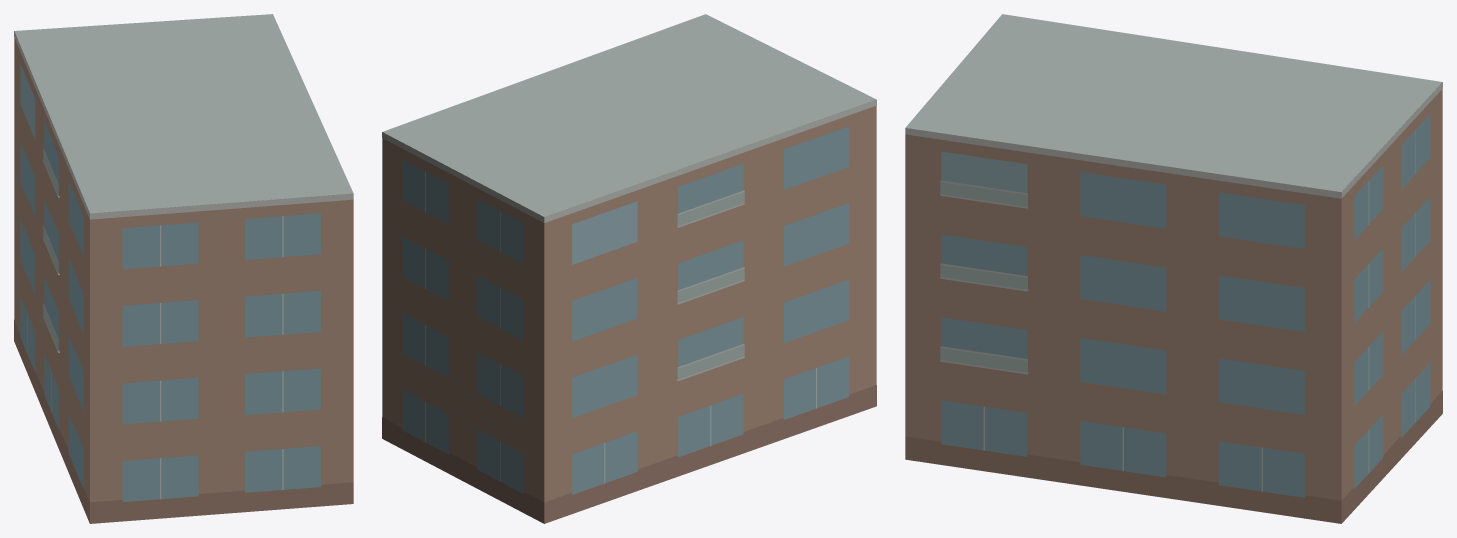
File: survey-upis-32882670.glb
3 views of the same model, side by side, from view 1: azimuth 30°, elevation 25°; view 2: azimuth 150°, elevation 25°; view 3: azimuth 270°, elevation 25° (orthographic). The views are drawn at different scales.
Parts seen in each view (by area): view 1: survey-upis-32882670.tmp; view 2: survey-upis-32882670.tmp; view 3: survey-upis-32882670.tmp.
Part boxes in pixels (x1,y1,x2,y2): survey-upis-32882670.tmp: [14, 14, 353, 523]; survey-upis-32882670.tmp: [382, 14, 876, 523]; survey-upis-32882670.tmp: [905, 14, 1442, 523].
Size of the model in its own units: 14.29 by 12.4 by 18.22.
